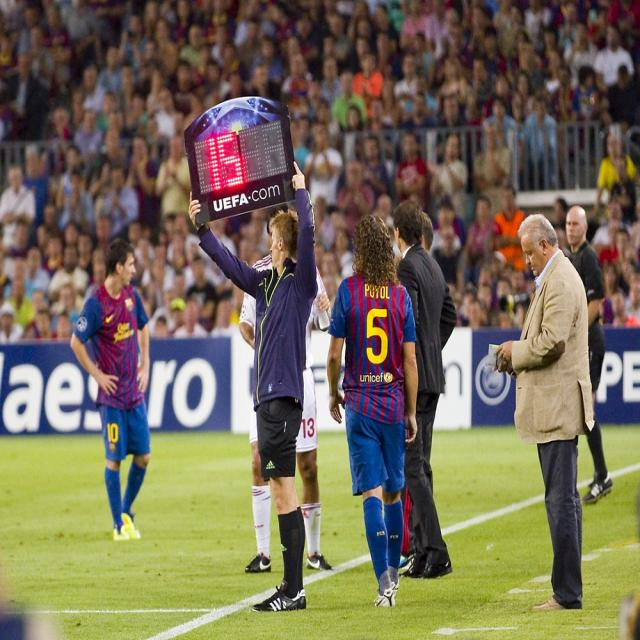substitution: (174, 92, 318, 240)
